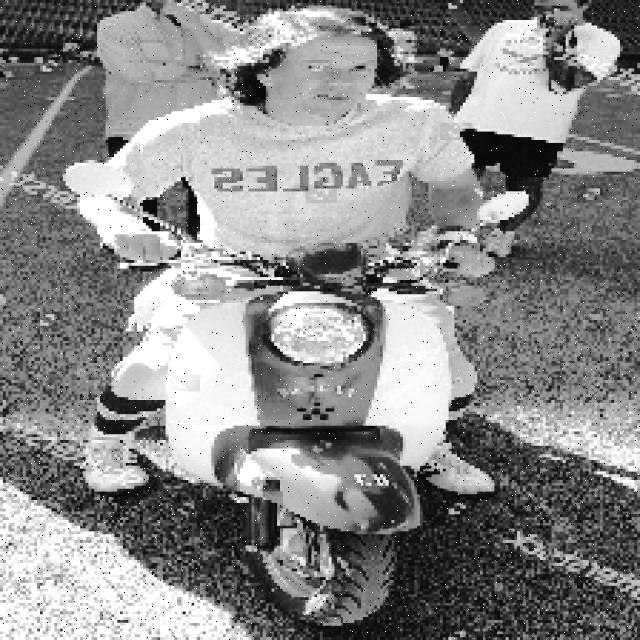Bike: (143, 231, 451, 625)
